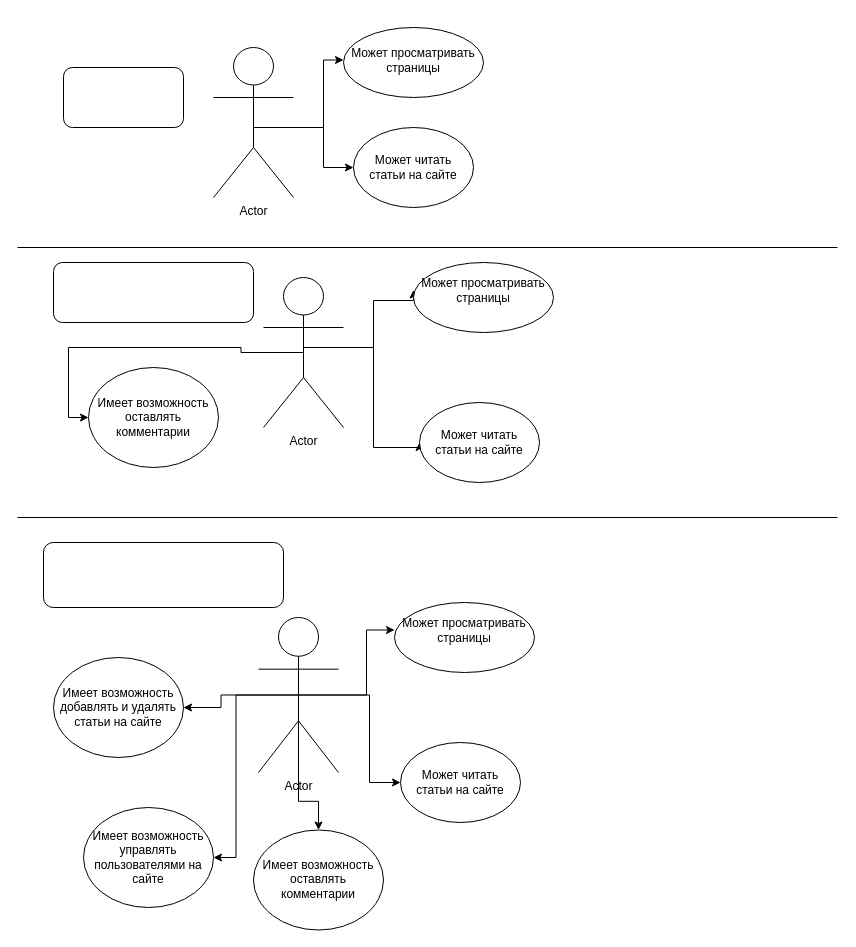
The diagram is 856 pixels wide and 947 high, and some of its shapes have lost their labels. The centre of each missing label's shape, as x and y in pixels:
АДМИНИСТРАТОР: point 163,575
ГОСТЬ: point 123,97
ПОЛЬЗОВАТЕЛЬ: point 153,292
